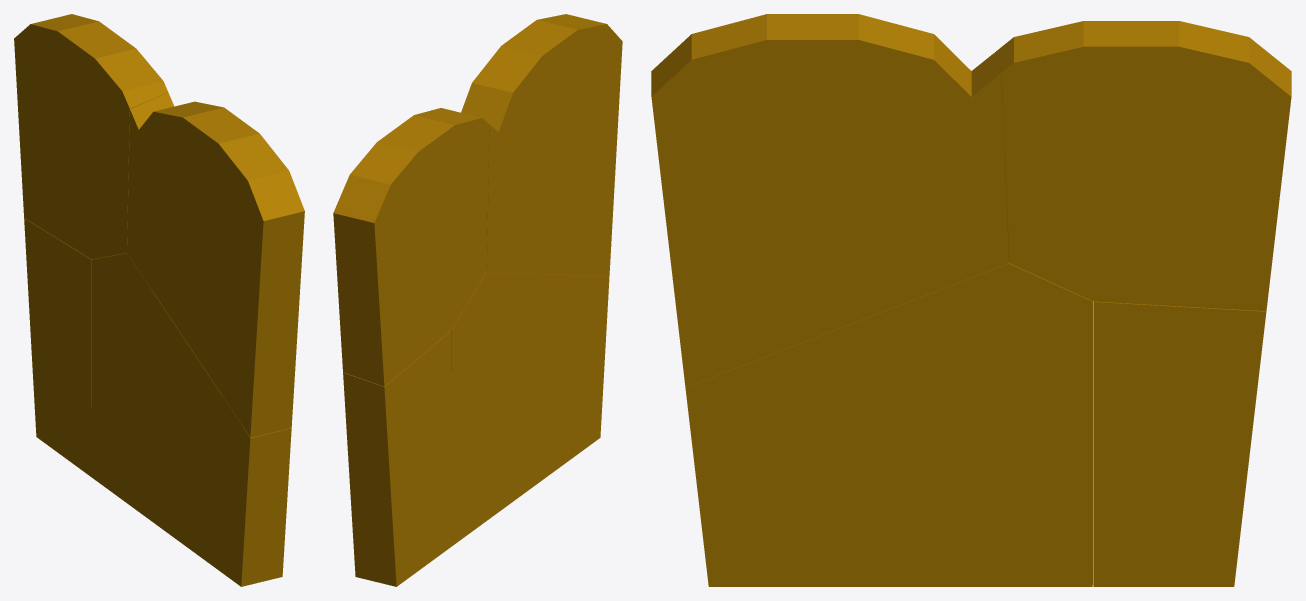
The model's file is BreadFractured.fbx.
3 views of the same model, side by side, from view 1: azimuth 30°, elevation 25°; view 2: azimuth 150°, elevation 25°; view 3: azimuth 270°, elevation 25° (orthographic). The views are drawn at different scales.
Parts seen in each view (by area): view 1: Bread_cell.003, Bread_cell, Bread_cell.002, Bread_cell.001; view 2: Bread_cell.002, Bread_cell.003, Bread_cell, Bread_cell.001; view 3: Bread_cell, Bread_cell.003, Bread_cell.002, Bread_cell.001.
Boxes of the visible parts, x1,y1,x2,y2 form: Bread_cell.003: (127,92,304,437); Bread_cell: (91,253,291,586); Bread_cell.002: (14,14,168,259); Bread_cell.001: (24,218,91,476); Bread_cell.002: (333,108,489,386); Bread_cell.003: (461,14,622,276); Bread_cell: (451,272,609,546); Bread_cell.001: (343,331,451,586); Bread_cell: (685,262,1092,586); Bread_cell.003: (651,14,1008,387); Bread_cell.002: (994,21,1291,311); Bread_cell.001: (1093,301,1266,586).
Bounding box in the file's own units: 25.16 × 248 × 263.
